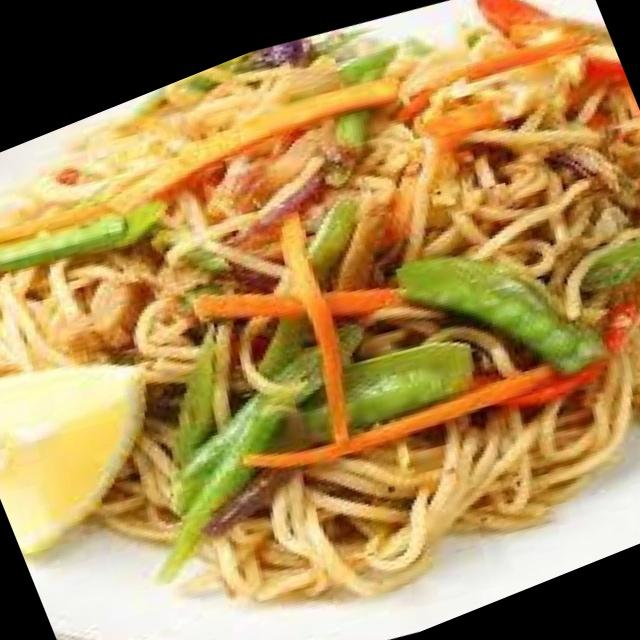pancit bihon: (0, 12, 639, 608)
